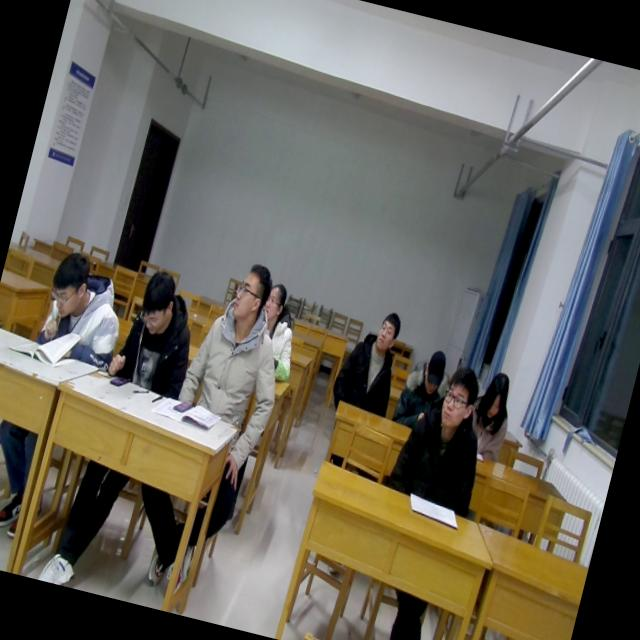bow: (31, 244, 138, 368)
down: (38, 243, 97, 324), (130, 260, 184, 338), (474, 360, 518, 426), (412, 340, 452, 400)
lookup: (430, 359, 484, 437)
sit: (172, 253, 307, 437), (385, 356, 502, 519), (102, 264, 206, 401), (326, 301, 413, 418), (248, 276, 312, 384), (391, 341, 460, 434), (462, 366, 524, 466)
